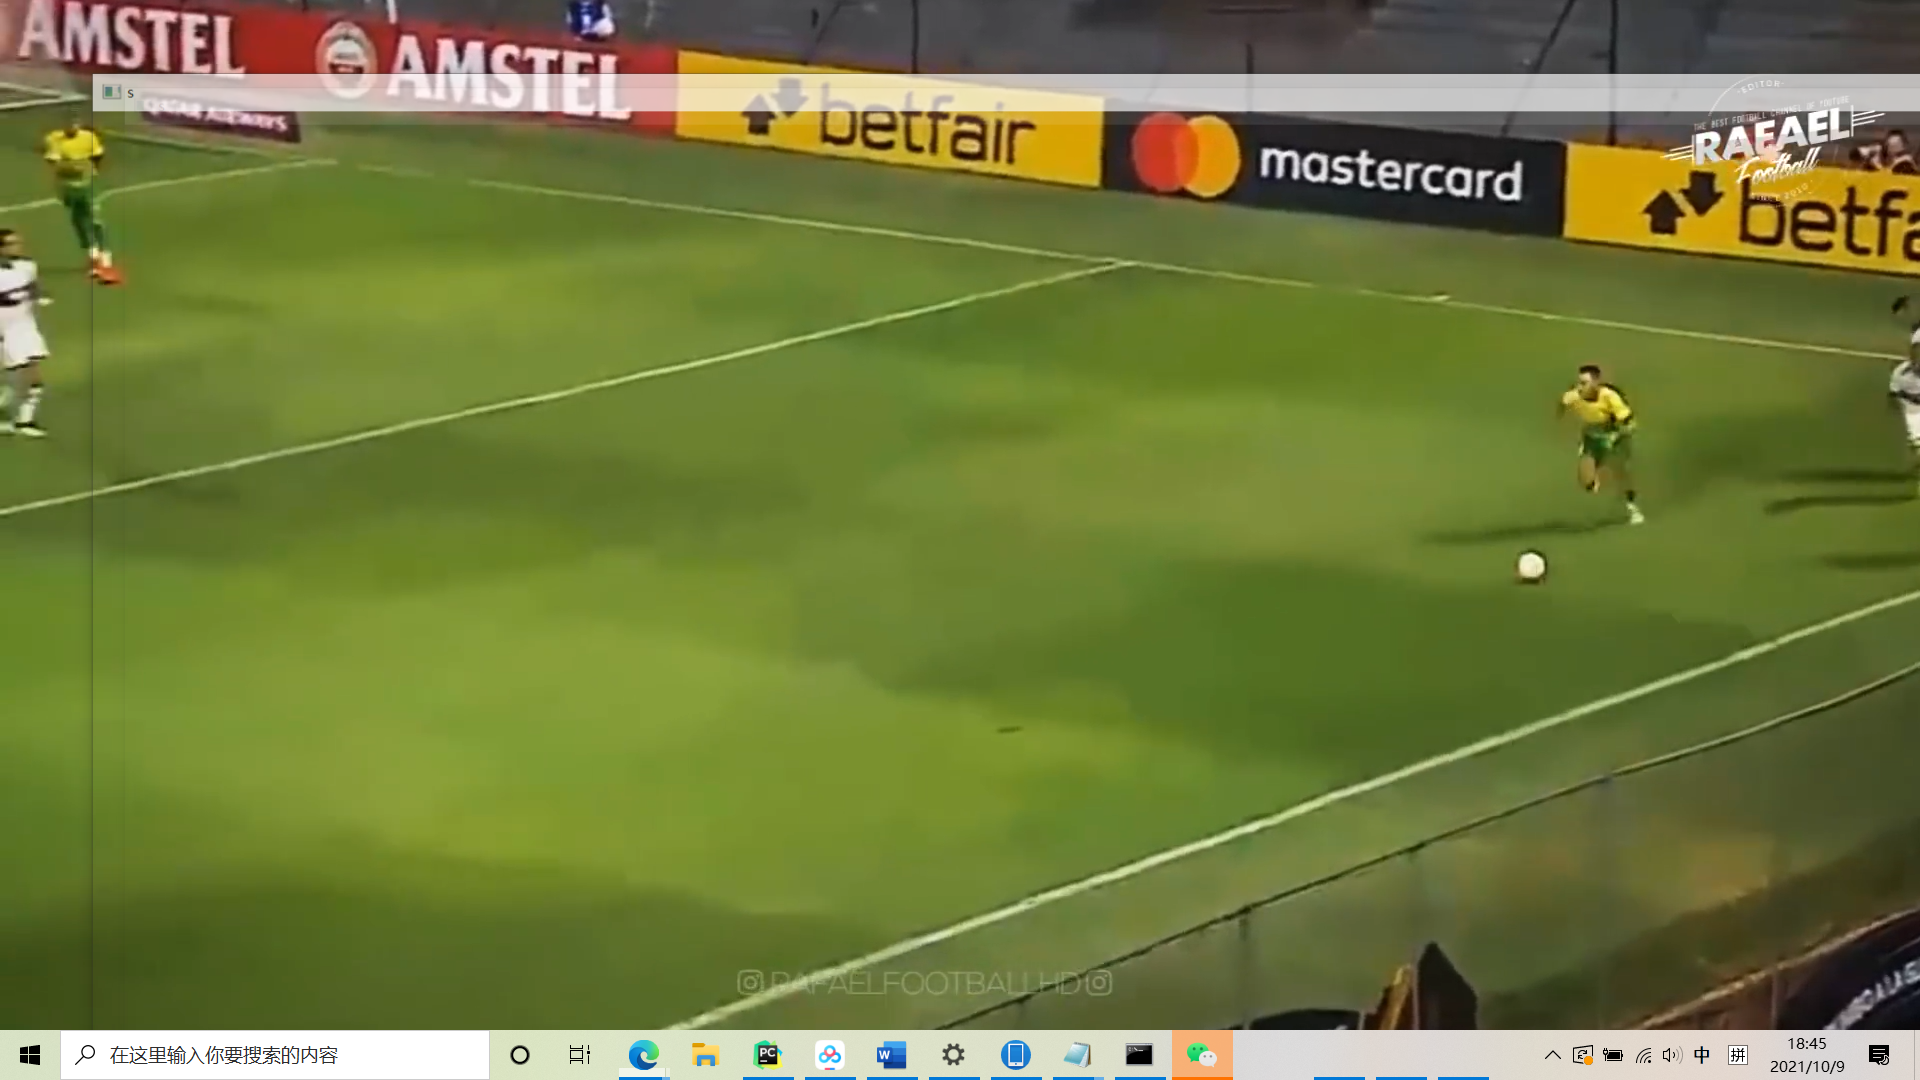ft: (1510, 550, 1548, 587)
